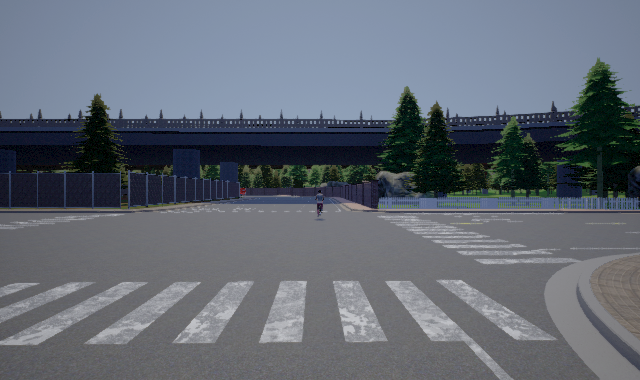bike: (314, 190, 326, 219)
